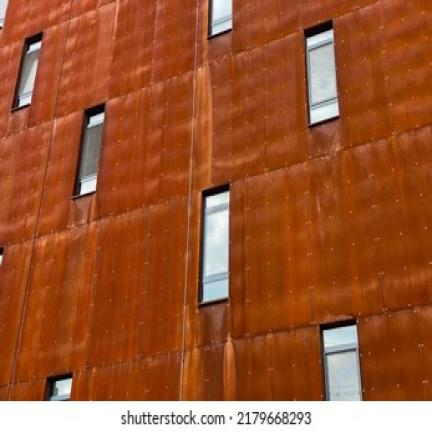karat: (233, 181, 429, 313), (15, 228, 184, 356), (110, 68, 302, 178), (339, 30, 432, 167), (192, 318, 320, 395), (43, 5, 203, 60), (0, 120, 73, 209), (362, 320, 432, 397), (81, 361, 185, 402), (237, 0, 429, 20)
